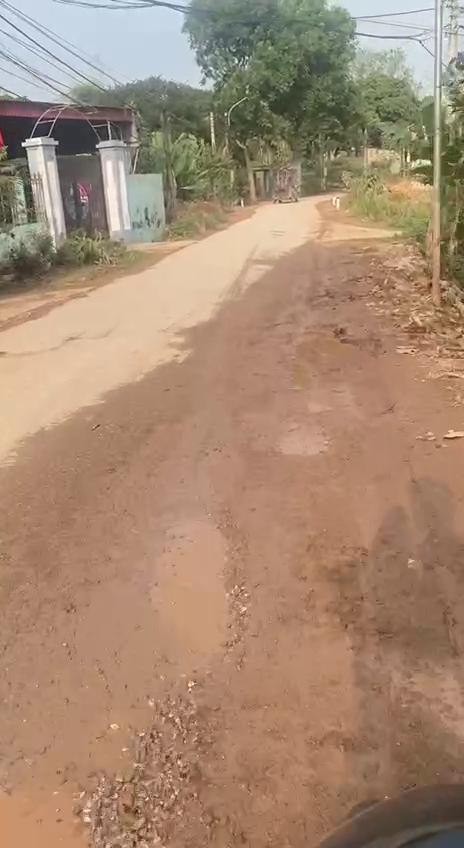pothole: (152, 512, 252, 669)
